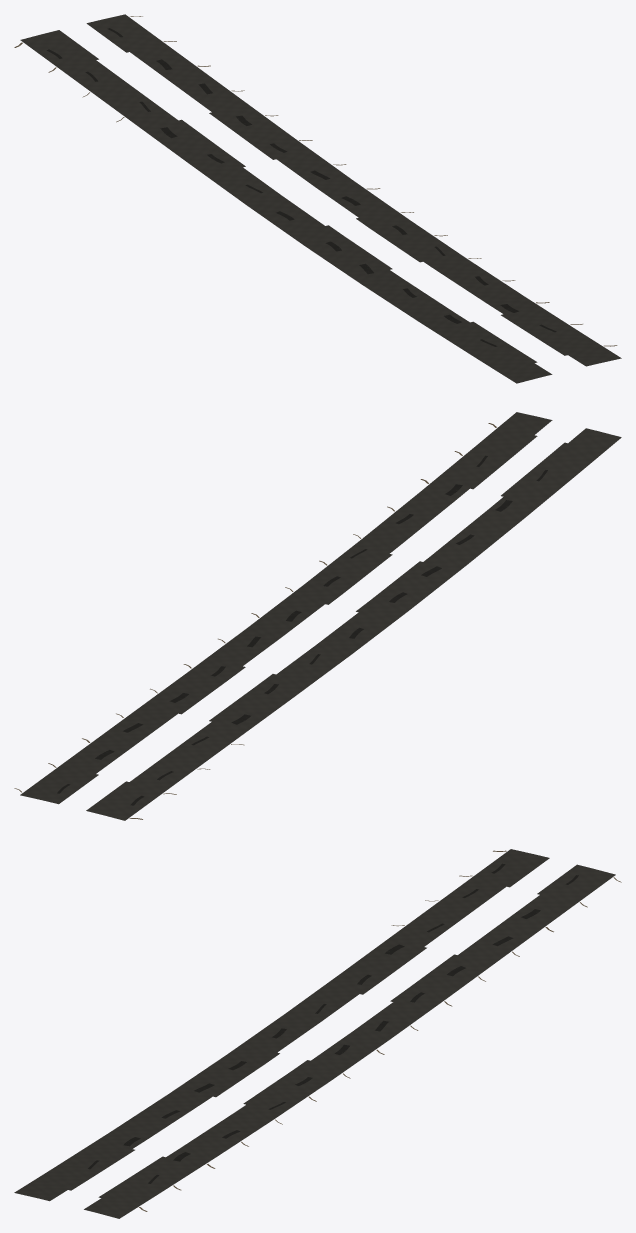
Rendered from SM_Caliche_RoadWear.glb.
3 views of the same model, one above another, from view 1: azimuth 30°, elevation 25°; view 2: azimuth 150°, elevation 25°; view 3: azimuth 330°, elevation 25° (orthographic).
Visible parts, largest first — view 1: SM_Caliche_RoadWear; view 2: SM_Caliche_RoadWear; view 3: SM_Caliche_RoadWear.
Boxes of the visible parts, x1,y1,x2,y2 form: SM_Caliche_RoadWear: (14, 14, 621, 383); SM_Caliche_RoadWear: (14, 412, 621, 820); SM_Caliche_RoadWear: (14, 849, 621, 1218).
Size of the model in its own units: 10.33 by 1.57 by 68.94.
Materials: 3 (3 with a texture image).
